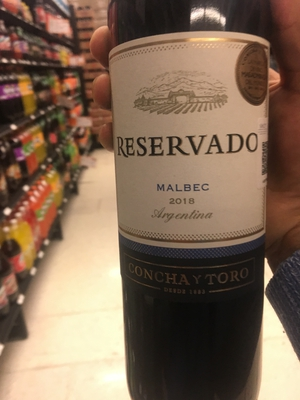reservado malbec: (108, 3, 276, 400)
